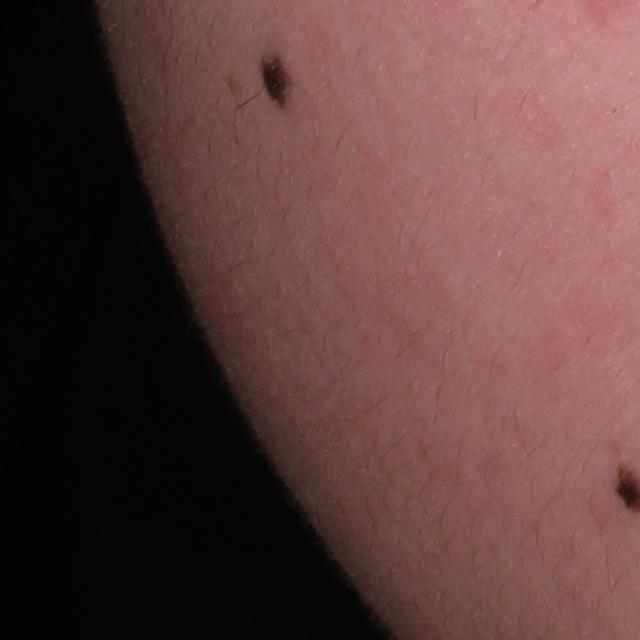nevus: (612, 472, 640, 510)
